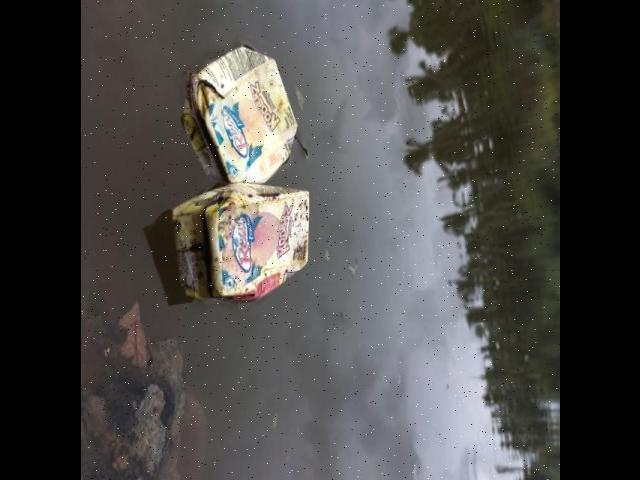Box: (164, 176, 322, 308), (178, 36, 300, 188)
